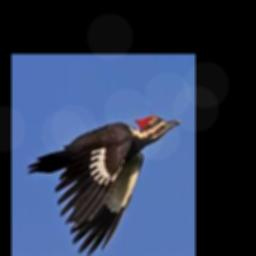Woodpecker: (27, 114, 180, 255)
